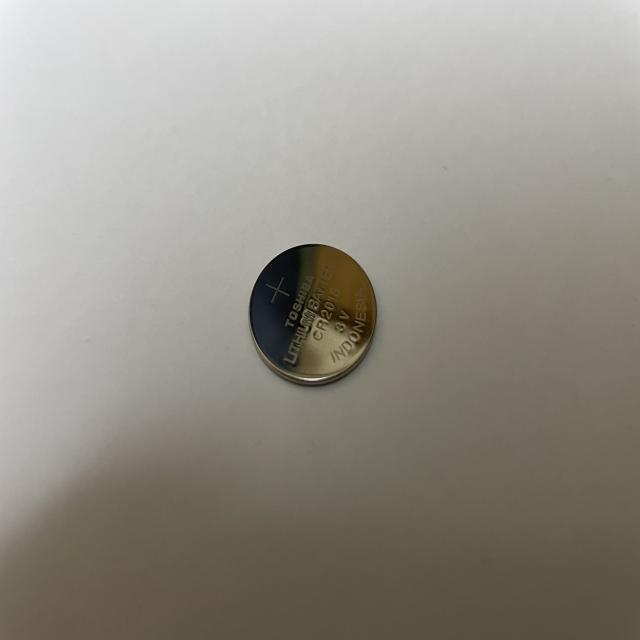COIN: (246, 240, 378, 392)
